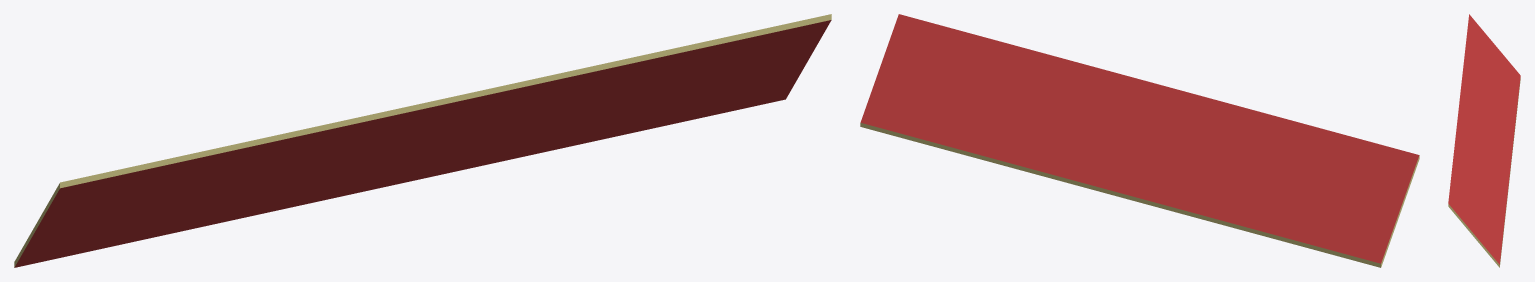
3 views of the same model, side by side, from view 1: azimuth 30°, elevation 25°; view 2: azimuth 150°, elevation 25°; view 3: azimuth 270°, elevation 25° (orthographic). The views are drawn at different scales.
Bounding box in the file's own units: 13.44 × 2.16 × 2.09.
